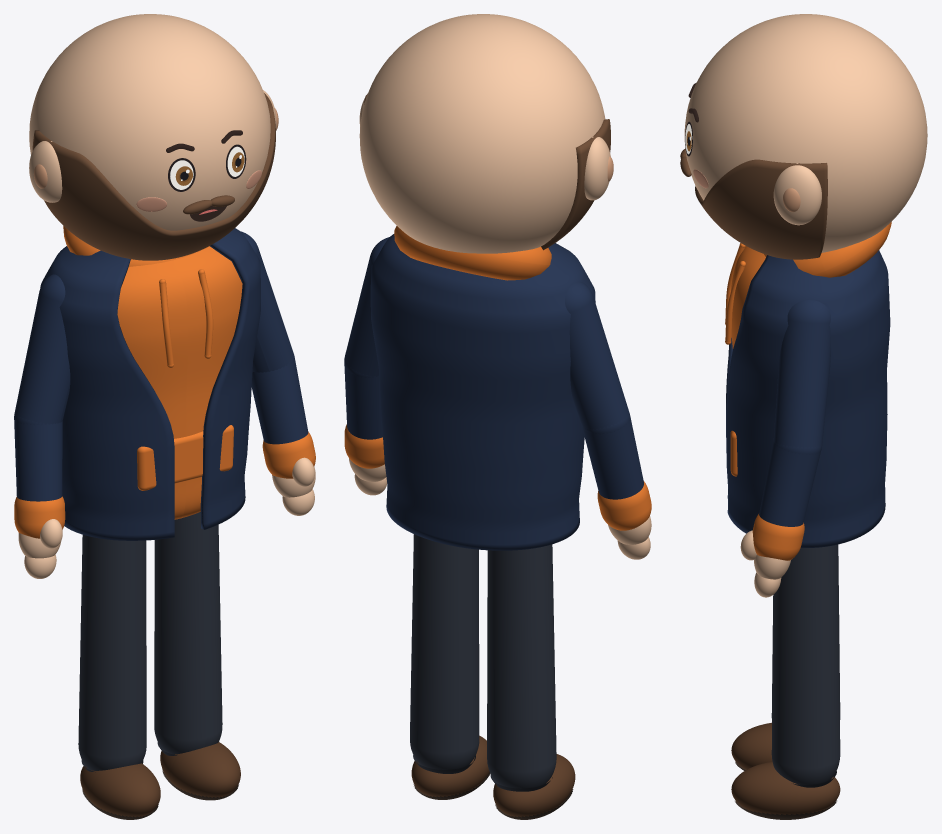
File: hoofdpersonage_volwassen.glb
The picture shows the model from 3 angles, left to right: view 1: azimuth 30°, elevation 25°; view 2: azimuth 150°, elevation 25°; view 3: azimuth 270°, elevation 25°; orthographic projection.
Parts seen in each view (by area): view 1: hoofdpersonage_volwassen_hoofd, hoofdpersonage_volwassen_jas, hoofdpersonage_volwassen_romp, hoofdpersonage_volwassen_been_R, hoofdpersonage_volwassen_been_L, hoofdpersonage_volwassen_baard, hoofdpersonage_volwassen_bovenarm_R, hoofdpersonage_volwassen_onderarm_R, hoofdpersonage_volwassen_onderarm_L, hoofdpersonage_volwassen_schoen_R, hoofdpersonage_volwassen_schoen_L, hoofdpersonage_volwassen_buidelzak (+11 smaller); view 2: hoofdpersonage_volwassen_jas, hoofdpersonage_volwassen_hoofd, hoofdpersonage_volwassen_been_R, hoofdpersonage_volwassen_been_L, hoofdpersonage_volwassen_bovenarm_R, hoofdpersonage_volwassen_capuchon, hoofdpersonage_volwassen_onderarm_R, hoofdpersonage_volwassen_schoen_R, hoofdpersonage_volwassen_bovenarm_L, hoofdpersonage_volwassen_onderarm_L, hoofdpersonage_volwassen_schoen_L, hoofdpersonage_volwassen_manchet_R (+4 smaller); view 3: hoofdpersonage_volwassen_hoofd, hoofdpersonage_volwassen_jas, hoofdpersonage_volwassen_been_L, hoofdpersonage_volwassen_baard, hoofdpersonage_volwassen_bovenarm_L, hoofdpersonage_volwassen_schoen_L, hoofdpersonage_volwassen_onderarm_L, hoofdpersonage_volwassen_capuchon, hoofdpersonage_volwassen_oor_L, hoofdpersonage_volwassen_manchet_L, hoofdpersonage_volwassen_schoen_R, hoofdpersonage_volwassen_romp (+1 smaller).
Boxes of the visible parts, left/top/right/bottom form: hoofdpersonage_volwassen_hoofd: left=29, top=14, right=270, bottom=230; hoofdpersonage_volwassen_jas: left=40, top=228, right=260, bottom=540; hoofdpersonage_volwassen_romp: left=117, top=246, right=242, bottom=519; hoofdpersonage_volwassen_been_R: left=78, top=535, right=146, bottom=770; hoofdpersonage_volwassen_been_L: left=154, top=512, right=222, bottom=754; hoofdpersonage_volwassen_baard: left=32, top=93, right=275, bottom=260; hoofdpersonage_volwassen_bovenarm_R: left=14, top=274, right=70, bottom=424; hoofdpersonage_volwassen_onderarm_R: left=14, top=416, right=62, bottom=501; hoofdpersonage_volwassen_onderarm_L: left=251, top=358, right=308, bottom=444; hoofdpersonage_volwassen_schoen_R: left=80, top=763, right=160, bottom=817; hoofdpersonage_volwassen_schoen_L: left=160, top=742, right=240, bottom=797; hoofdpersonage_volwassen_buidelzak: left=137, top=425, right=233, bottom=490; hoofdpersonage_volwassen_jas: left=370, top=234, right=595, bottom=550; hoofdpersonage_volwassen_hoofd: left=359, top=14, right=605, bottom=253; hoofdpersonage_volwassen_been_R: left=487, top=544, right=556, bottom=788; hoofdpersonage_volwassen_been_L: left=410, top=534, right=479, bottom=769; hoofdpersonage_volwassen_bovenarm_R: left=565, top=281, right=629, bottom=433; hoofdpersonage_volwassen_capuchon: left=394, top=226, right=551, bottom=280; hoofdpersonage_volwassen_onderarm_R: left=582, top=417, right=643, bottom=499; hoofdpersonage_volwassen_schoen_R: left=493, top=754, right=575, bottom=817; hoofdpersonage_volwassen_bovenarm_L: left=344, top=237, right=389, bottom=376; hoofdpersonage_volwassen_onderarm_L: left=344, top=364, right=382, bottom=439; hoofdpersonage_volwassen_schoen_L: left=411, top=735, right=489, bottom=797; hoofdpersonage_volwassen_manchet_R: left=597, top=481, right=651, bottom=530; hoofdpersonage_volwassen_hoofd: left=684, top=14, right=927, bottom=252; hoofdpersonage_volwassen_jas: left=726, top=250, right=890, bottom=547; hoofdpersonage_volwassen_been_L: left=771, top=544, right=840, bottom=784; hoofdpersonage_volwassen_baard: left=695, top=159, right=827, bottom=259; hoofdpersonage_volwassen_bovenarm_L: left=773, top=300, right=830, bottom=454; hoofdpersonage_volwassen_schoen_L: left=731, top=762, right=840, bottom=814; hoofdpersonage_volwassen_onderarm_L: left=759, top=442, right=820, bottom=526; hoofdpersonage_volwassen_capuchon: left=764, top=222, right=891, bottom=277; hoofdpersonage_volwassen_oor_L: left=773, top=163, right=821, bottom=225; hoofdpersonage_volwassen_manchet_L: left=752, top=514, right=804, bottom=560; hoofdpersonage_volwassen_schoen_R: left=731, top=722, right=772, bottom=769; hoofdpersonage_volwassen_romp: left=731, top=246, right=765, bottom=348.
Bounding box in the file's own units: 0.7574 × 1.89 × 0.5492.
